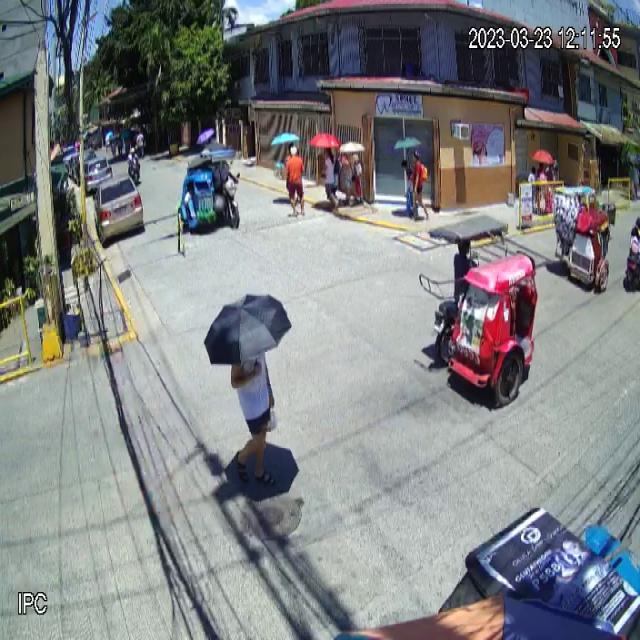Tricycle: (419, 213, 539, 406), (551, 185, 611, 295), (178, 142, 240, 232)
